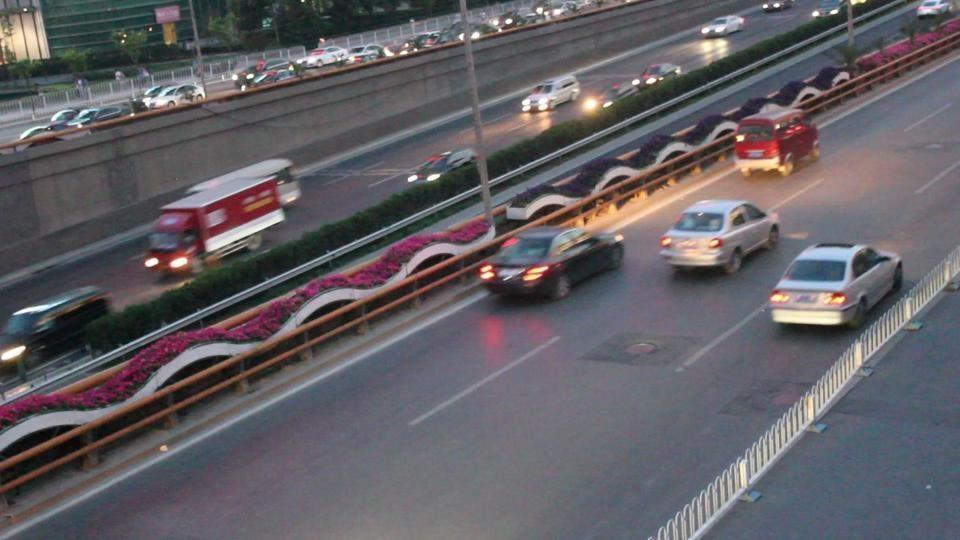car: (767, 241, 903, 329), (478, 226, 625, 303), (0, 286, 114, 374), (503, 156, 644, 226), (657, 198, 781, 277), (733, 108, 822, 179), (405, 148, 480, 186), (520, 75, 581, 113), (140, 83, 205, 109), (237, 65, 300, 90), (71, 104, 133, 128), (635, 62, 681, 90), (701, 15, 746, 38), (299, 47, 350, 67), (348, 44, 387, 63), (48, 108, 83, 129)
